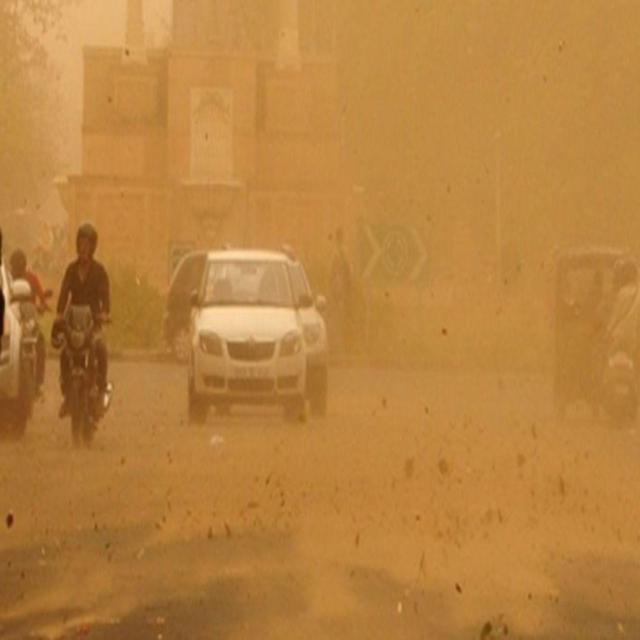Car: (186, 257, 314, 419)
Cycle: (52, 308, 113, 456)
